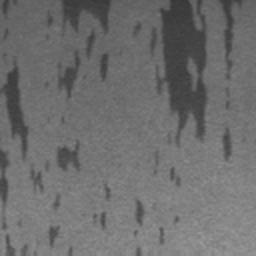Red iron sheet: (45, 0, 244, 186), (0, 0, 81, 256), (92, 183, 164, 256)
